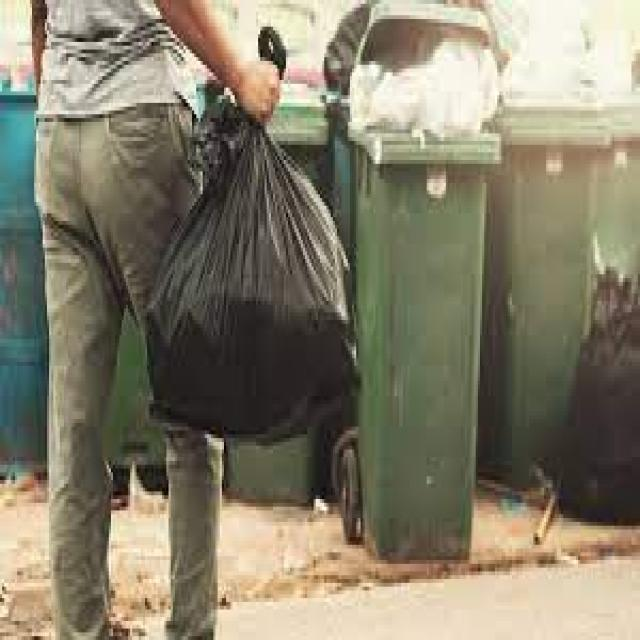sampah-detection: (145, 23, 367, 446), (347, 27, 498, 149)
